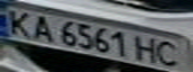1: (109, 29, 130, 58)
5: (72, 22, 96, 51)
6: (54, 18, 78, 47), (90, 26, 112, 55)
A: (24, 14, 57, 43)
C: (151, 38, 187, 69)
H: (133, 34, 163, 64)
K: (0, 7, 39, 38)
